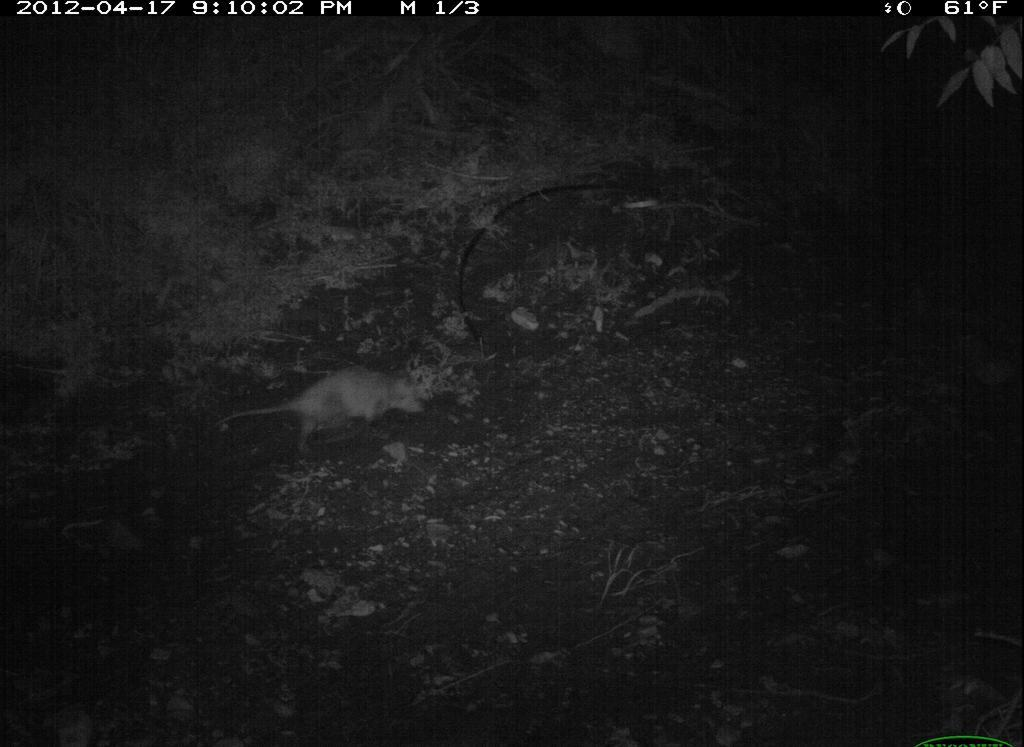opossum: (198, 350, 456, 473)
